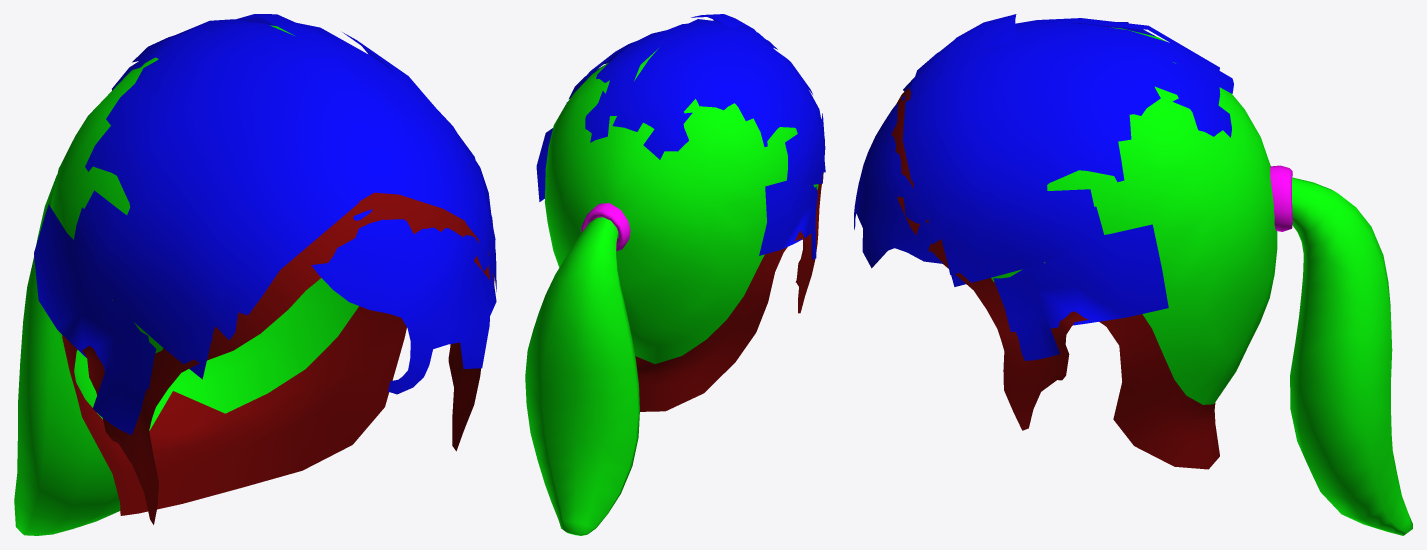
Rendered from hair_001.obj.
The picture shows the model from 3 angles, left to right: view 1: azimuth 30°, elevation 25°; view 2: azimuth 150°, elevation 25°; view 3: azimuth 270°, elevation 25°; orthographic projection. The views are drawn at different scales.
Size of the model in its own units: 16.66 by 26.65 by 25.91.
